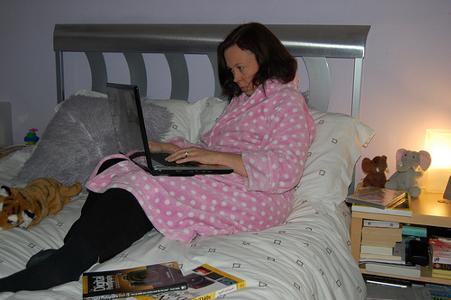person: (1, 20, 319, 293)
